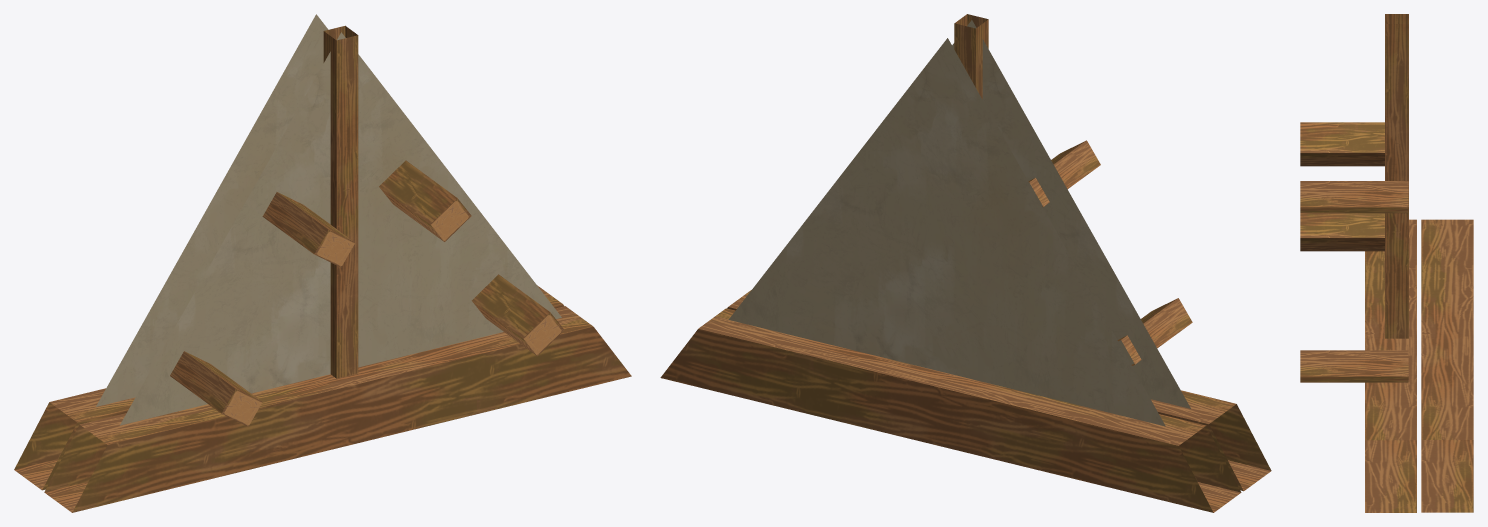
Rendered from roof_front_brick2.glb.
The picture shows the model from 3 angles, left to right: view 1: azimuth 30°, elevation 25°; view 2: azimuth 150°, elevation 25°; view 3: azimuth 270°, elevation 25°; orthographic projection. The views are drawn at different scales.
Visible parts, largest first — view 1: Roof_Front_Brick2; view 2: Roof_Front_Brick2; view 3: Roof_Front_Brick2.
Part boxes in pixels (x1,y1,x2,y2): Roof_Front_Brick2: (14,14,631,512); Roof_Front_Brick2: (660,14,1271,512); Roof_Front_Brick2: (1300,14,1473,512).
Size of the model in its own units: 2.61 by 1.77 by 0.7513.
Materials: 2 (2 with a texture image).
